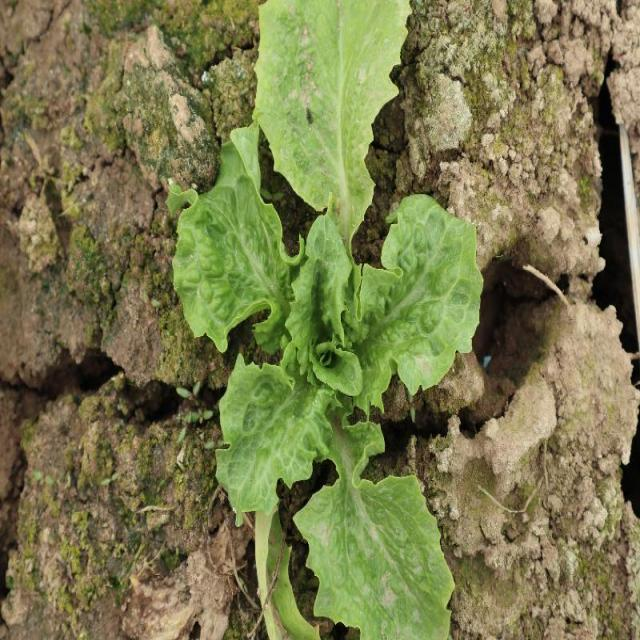crop: (177, 0, 485, 640)
